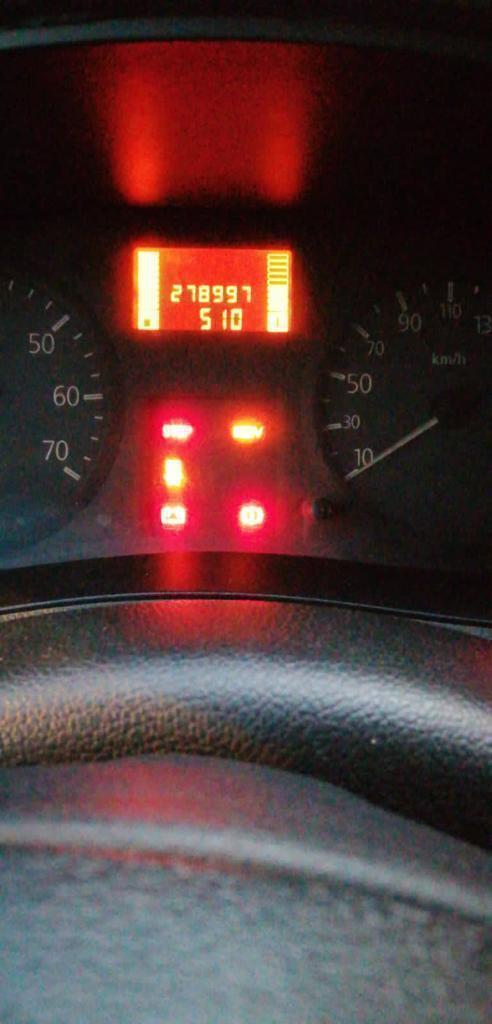0: (230, 308, 243, 330)
1: (221, 308, 227, 329)
2: (170, 284, 182, 302)
5: (198, 307, 211, 330)
7: (241, 285, 251, 303), (186, 284, 196, 302)
8: (198, 284, 210, 303)
9: (225, 285, 237, 303), (211, 285, 223, 303)
odometer: (133, 247, 293, 335)
